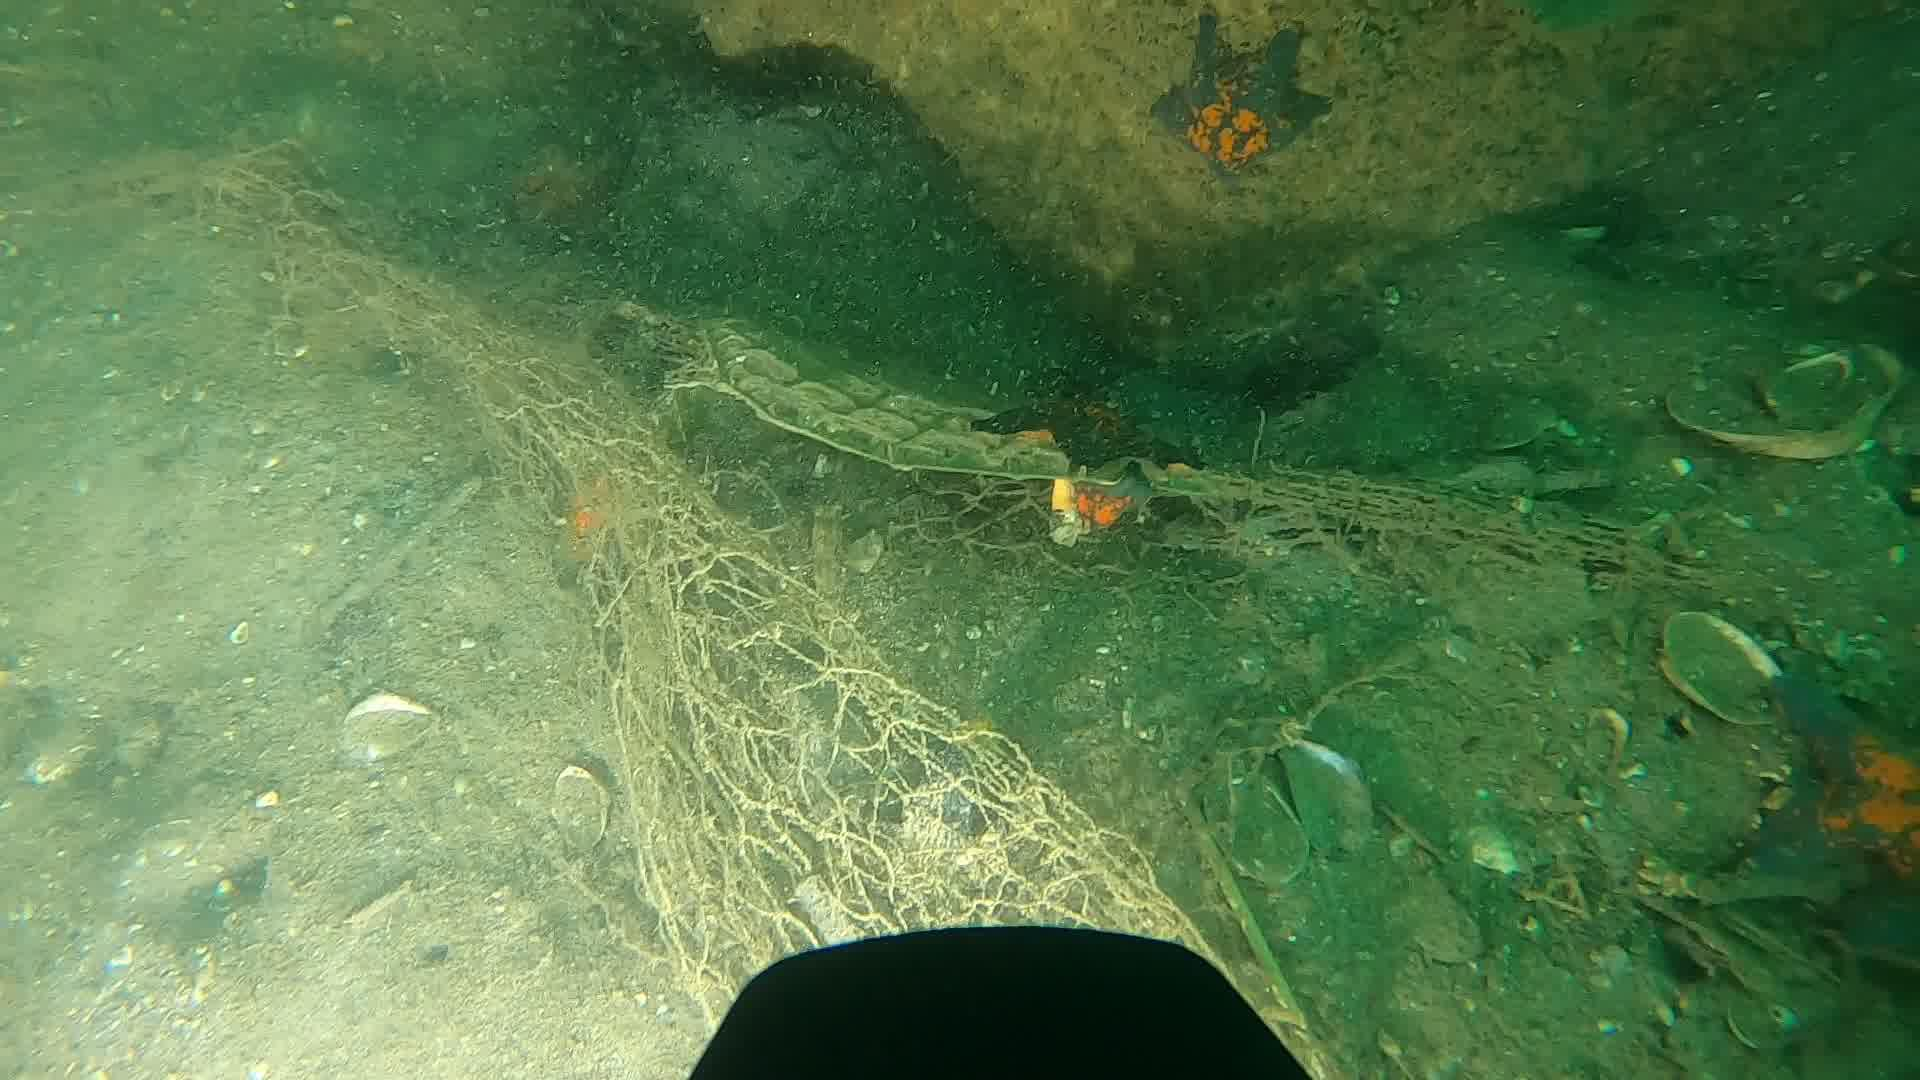fish net: (473, 353, 1182, 930)
